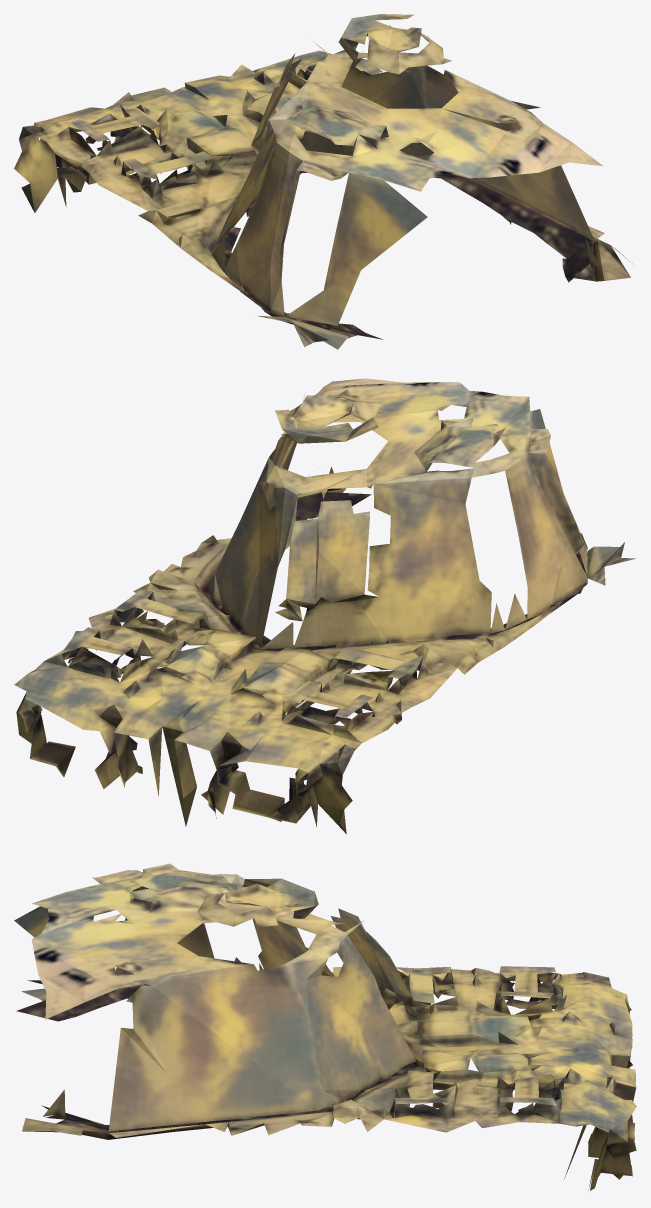
Rendered from panther_turret.obj.
3 views of the same model, one above another, from view 1: azimuth 30°, elevation 25°; view 2: azimuth 150°, elevation 25°; view 3: azimuth 270°, elevation 25° (orthographic). The views are drawn at different scales.
Visible parts, largest first — view 1: panther_turret; view 2: panther_turret; view 3: panther_turret.
Part boxes in pixels (x1,y1,x2,y2): panther_turret: (14, 14, 632, 349); panther_turret: (14, 378, 635, 833); panther_turret: (14, 863, 636, 1190).
Bounding box in the file's own units: 2.75 × 2.29 × 4.34.
Materials: 1 (1 with a texture image).
